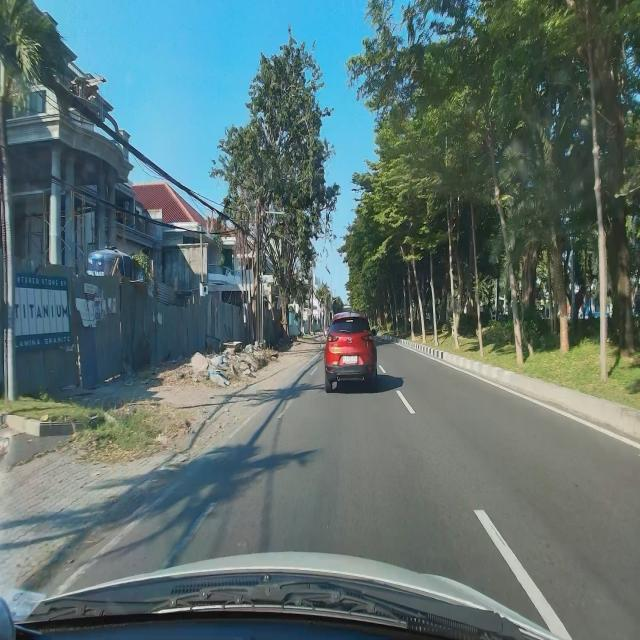car: (325, 312, 378, 394)
license-plate: (342, 354, 358, 364)
